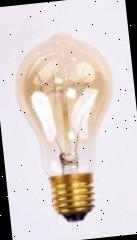lightbulb: (8, 26, 125, 226)
